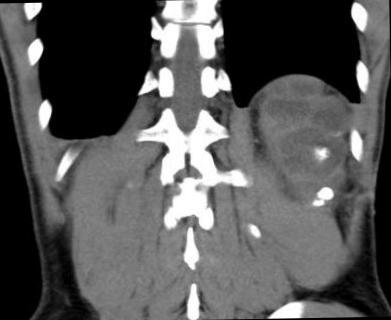Tas_Var: (314, 186, 336, 200), (315, 145, 329, 159), (310, 200, 326, 208)
